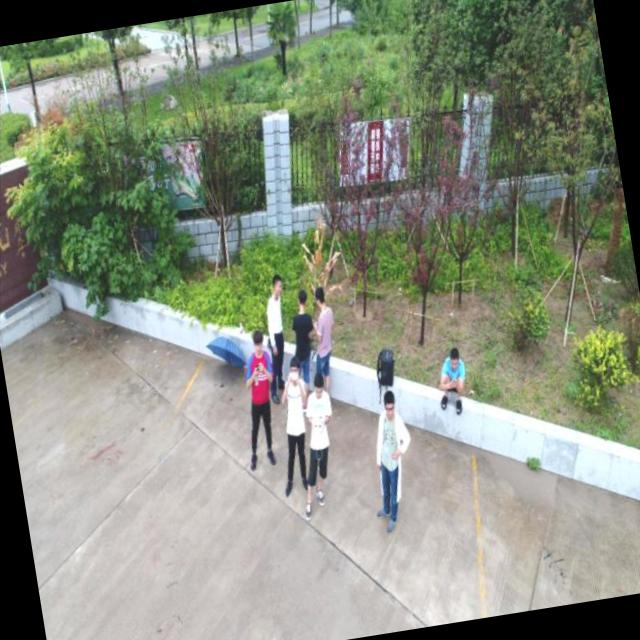person: (354, 384, 432, 537), (224, 325, 299, 476), (284, 368, 354, 521), (260, 352, 331, 500), (247, 272, 307, 406), (272, 286, 332, 416), (294, 284, 353, 416)
